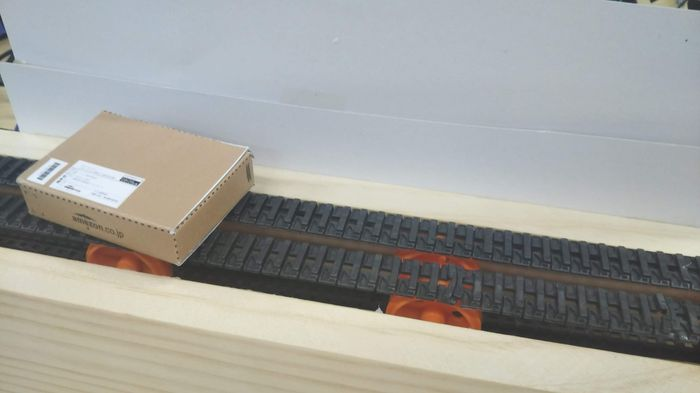box2: (14, 107, 258, 264)
